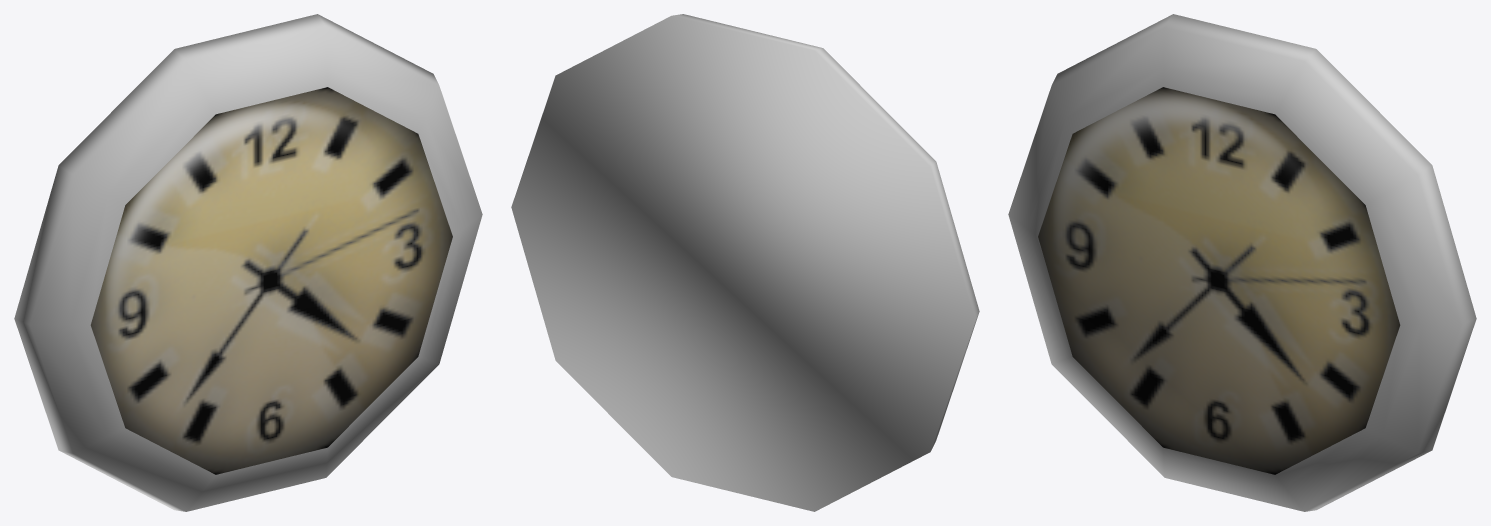
Rendered from Wall_Clock_B.FBX.
The picture shows the model from 3 angles, left to right: view 1: azimuth 30°, elevation 25°; view 2: azimuth 150°, elevation 25°; view 3: azimuth 330°, elevation 25°; orthographic projection.
Parts seen in each view (by area): view 1: Wall_Clock; view 2: Wall_Clock; view 3: Wall_Clock.
Boxes of the visible parts, x1,y1,x2,y2 form: Wall_Clock: (14,14,482,511); Wall_Clock: (511,14,979,511); Wall_Clock: (1008,14,1476,511).
Size of the model in its own units: 130 by 124 by 12.52.
